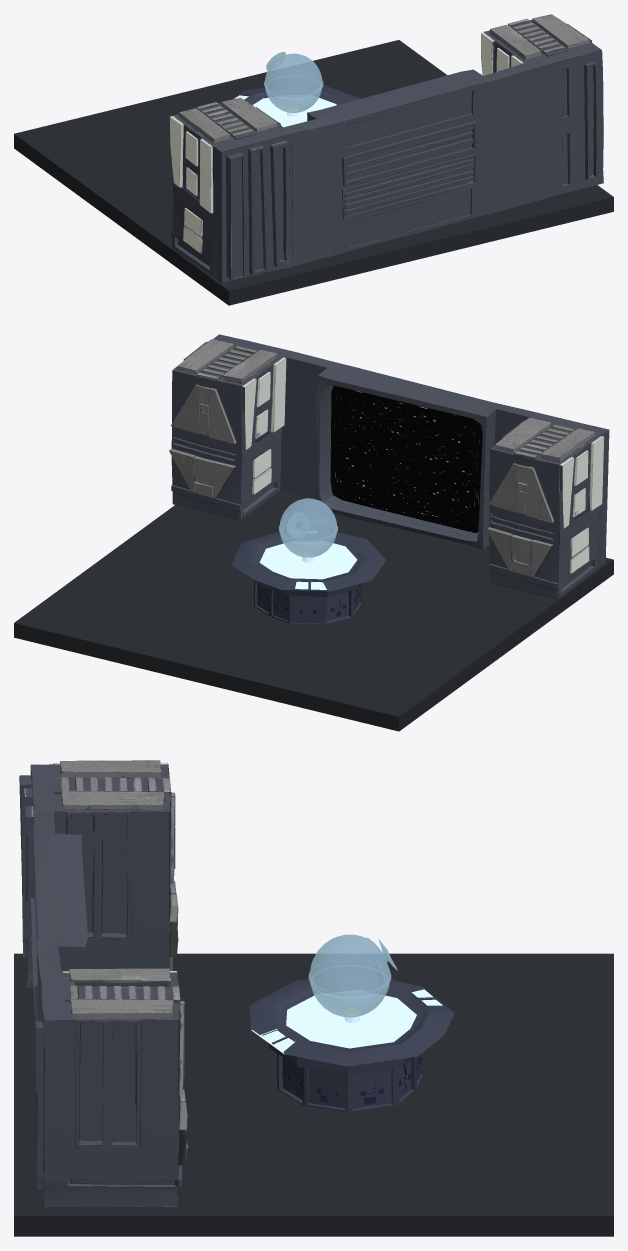
Rendered from death star.gltf.
The picture shows the model from 3 angles, top to bottom: view 1: azimuth 30°, elevation 25°; view 2: azimuth 150°, elevation 25°; view 3: azimuth 270°, elevation 25°; orthographic projection. The views are drawn at different scales.
Visible parts, largest first — view 1: Death Star Inside._High..003, Cube, Sphere.001, Sphere.002; view 2: Death Star Inside._High..003, Cube, Sphere.002, Sphere.001; view 3: Cube, Death Star Inside._High..003, Sphere.002, Sphere.001.
Boxes of the visible parts, <box> form: Death Star Inside._High..003: <box>169,14,603,283</box>; Cube: <box>14,40,613,305</box>; Sphere.001: <box>264,52,323,112</box>; Sphere.002: <box>231,85,360,127</box>; Death Star Inside._High..003: <box>169,334,609,599</box>; Cube: <box>14,490,613,731</box>; Sphere.002: <box>231,531,386,624</box>; Sphere.001: <box>278,498,337,557</box>; Cube: <box>14,953,613,1236</box>; Death Star Inside._High..003: <box>19,760,187,1207</box>; Sphere.002: <box>249,979,454,1112</box>; Sphere.001: <box>308,934,397,1017</box>.
Size of the model in its own units: 9.27 by 3.6 by 8.84.
Materials: 6 (3 with a texture image).
